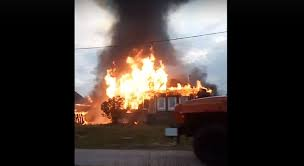fire: (90, 53, 209, 105)
